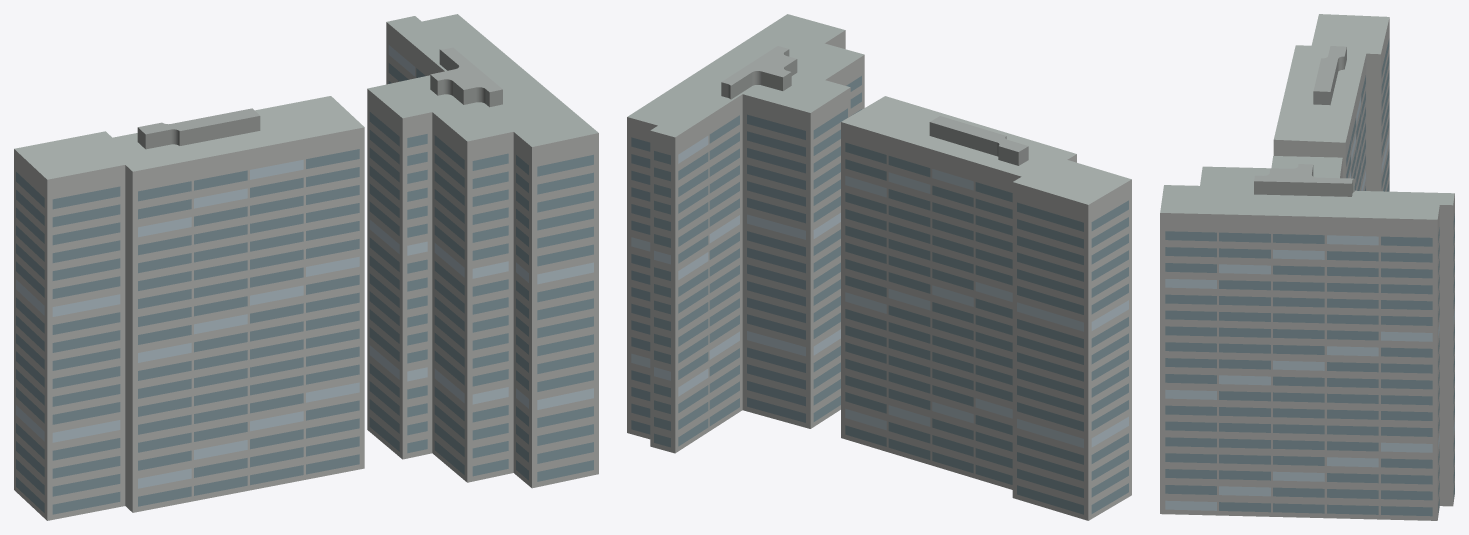
The model's file is apt-a13676501.glb.
The picture shows the model from 3 angles, left to right: view 1: azimuth 30°, elevation 25°; view 2: azimuth 150°, elevation 25°; view 3: azimuth 270°, elevation 25°; orthographic projection. The views are drawn at different scales.
Parts seen in each view (by area): view 1: apt-a13676501; view 2: apt-a13676501; view 3: apt-a13676501.
Boxes of the visible parts, left/top/right/bottom form: apt-a13676501: left=14, top=14, right=598, bottom=520; apt-a13676501: left=627, top=14, right=1131, bottom=520; apt-a13676501: left=1160, top=14, right=1454, bottom=520.
Bounding box in the file's own units: 79.99 × 57 × 48.42.
